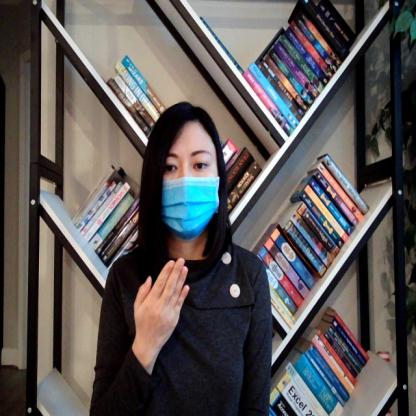thanks: (132, 255, 192, 350)
